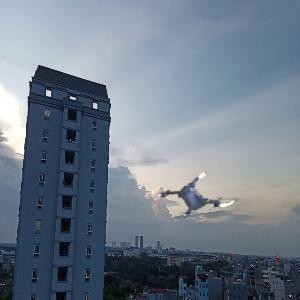drone: (166, 161, 237, 232)
